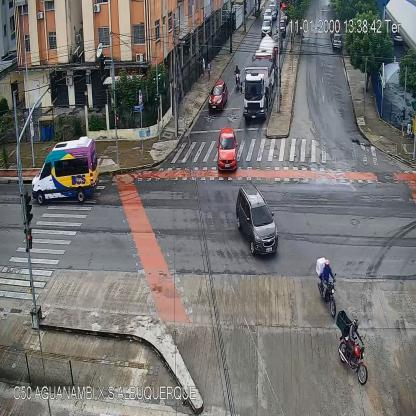car: (31, 136, 99, 204), (237, 184, 278, 257), (217, 130, 238, 173), (209, 82, 227, 112), (276, 19, 286, 37), (332, 34, 342, 50), (261, 20, 272, 34), (263, 9, 272, 21), (280, 10, 288, 23)
motorbike: (338, 315, 368, 384), (317, 258, 337, 316), (234, 64, 240, 90)
person: (207, 61, 212, 80), (202, 56, 206, 78)
truck: (240, 60, 278, 122), (252, 37, 278, 74)
